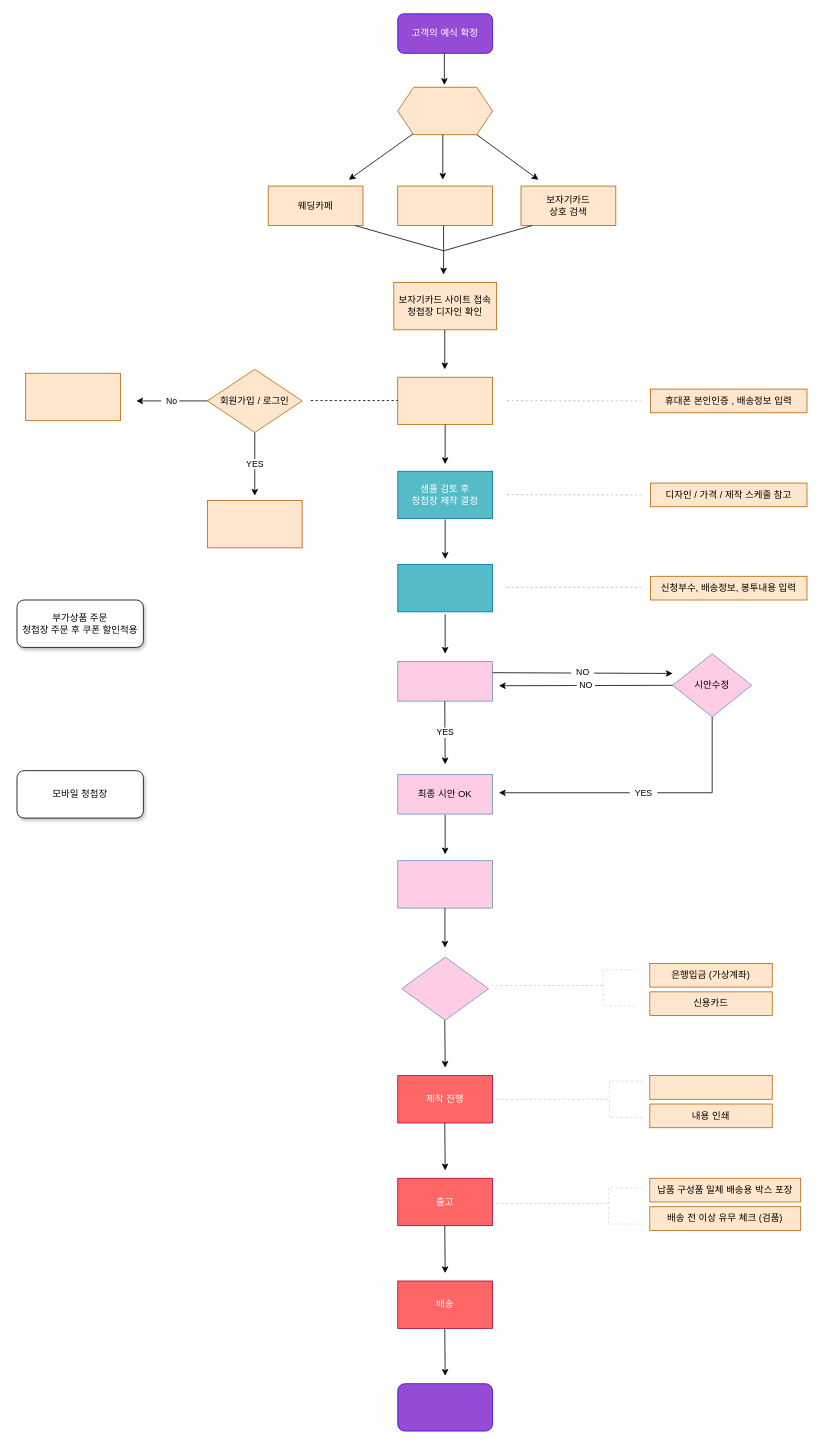
This 821x1445 diagram has some shape labels left out. Here are the shapes that lost their labels. From the top down, the centre of each, then its label:
[445,111]: 청첩장 제작 자료수집
[445,205]: 키워드 검색 ( 청첩장 )
[72,396]: 쿠폰, 주소록 관리 등 일부 권한 제한
[445,400]: 샘플신청 (최대 10종)
[254,524]: 권한제한 없이 사이트 이용가능
[445,588]: 청첩장 주문
[445,681]: 시안 확인
[445,884]: 배송지 입력 할인적용
[445,988]: 결제
[710,1087]: 상품제작 (기성 / 맞춤)
[445,1407]: 이용후기 작성 및 이벤트 참여
